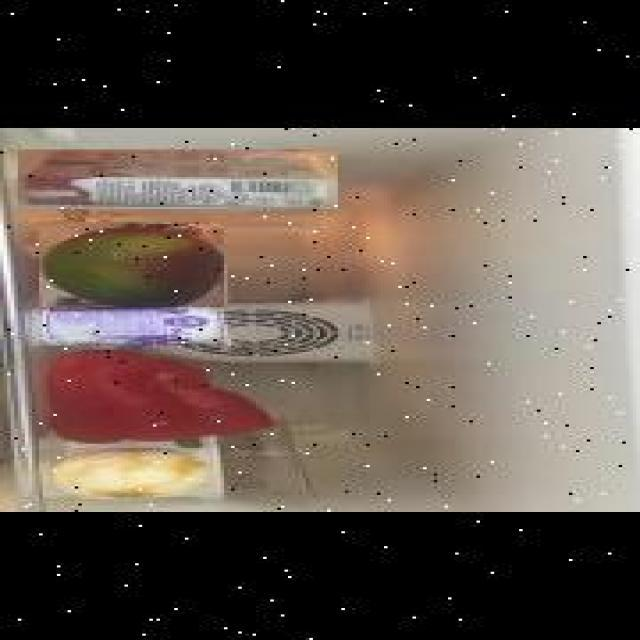bell_pepper: (53, 348, 274, 446)
heavy_cream: (12, 149, 332, 209)
mango: (36, 222, 220, 308)
yogurt: (23, 306, 229, 347)
